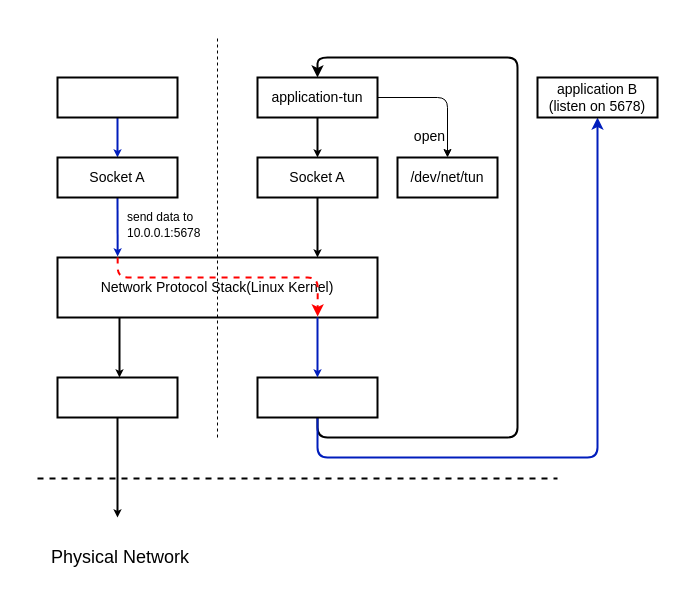
This 694x614 diagram has some shape labels left out. Here are the shapes that lost their labels. From the top down, the centre of each, then its label:
At point (117, 97): "application A".
At point (117, 397): "enp0s3 driver (192.168.2.114)".
At point (317, 397): "tun0 driver (10.0.0.1)".
